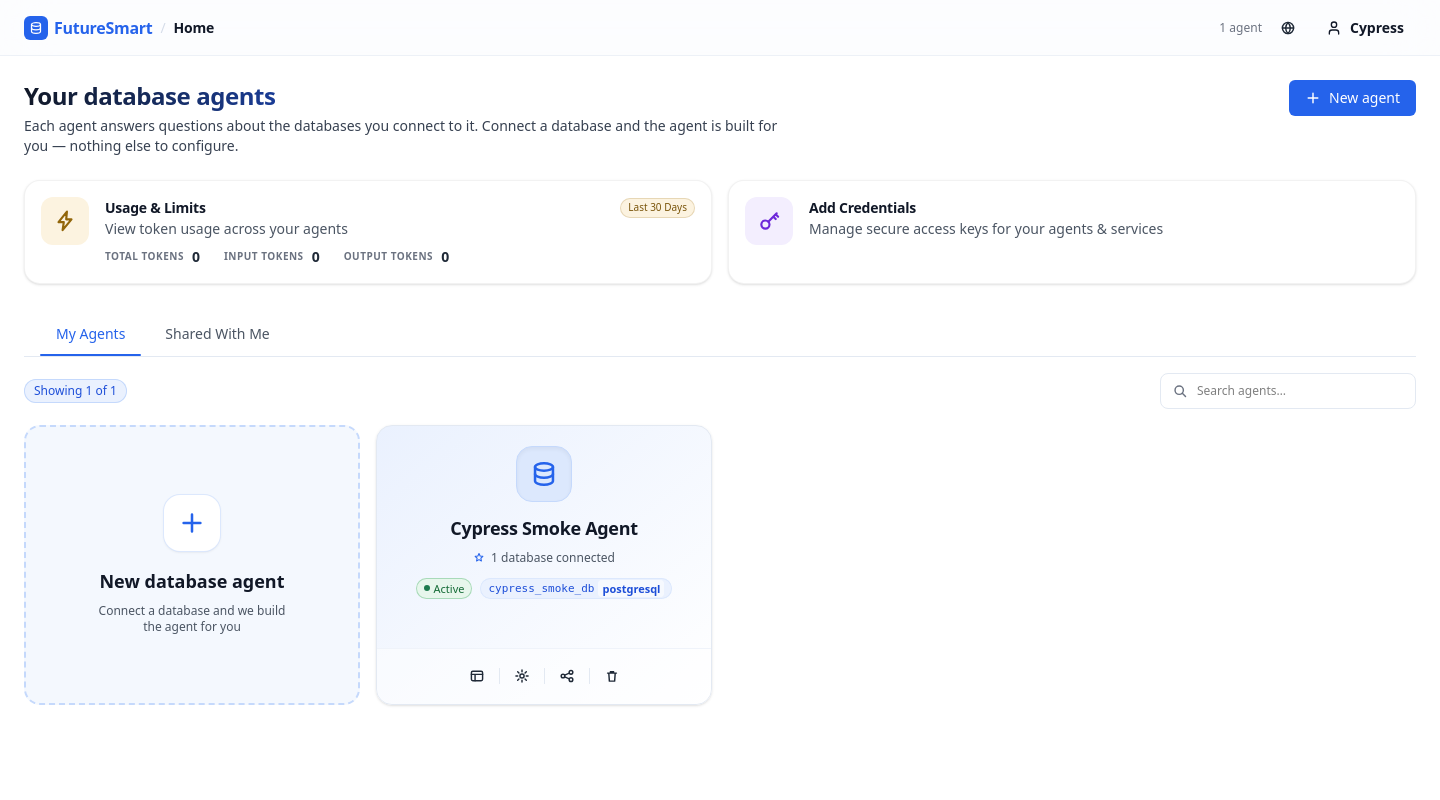
Test: Database Agent · app boots › opens the New agent wizard and walks its first step
Click the button "New agent" at (1353, 98), box [1289,80,1416,116]
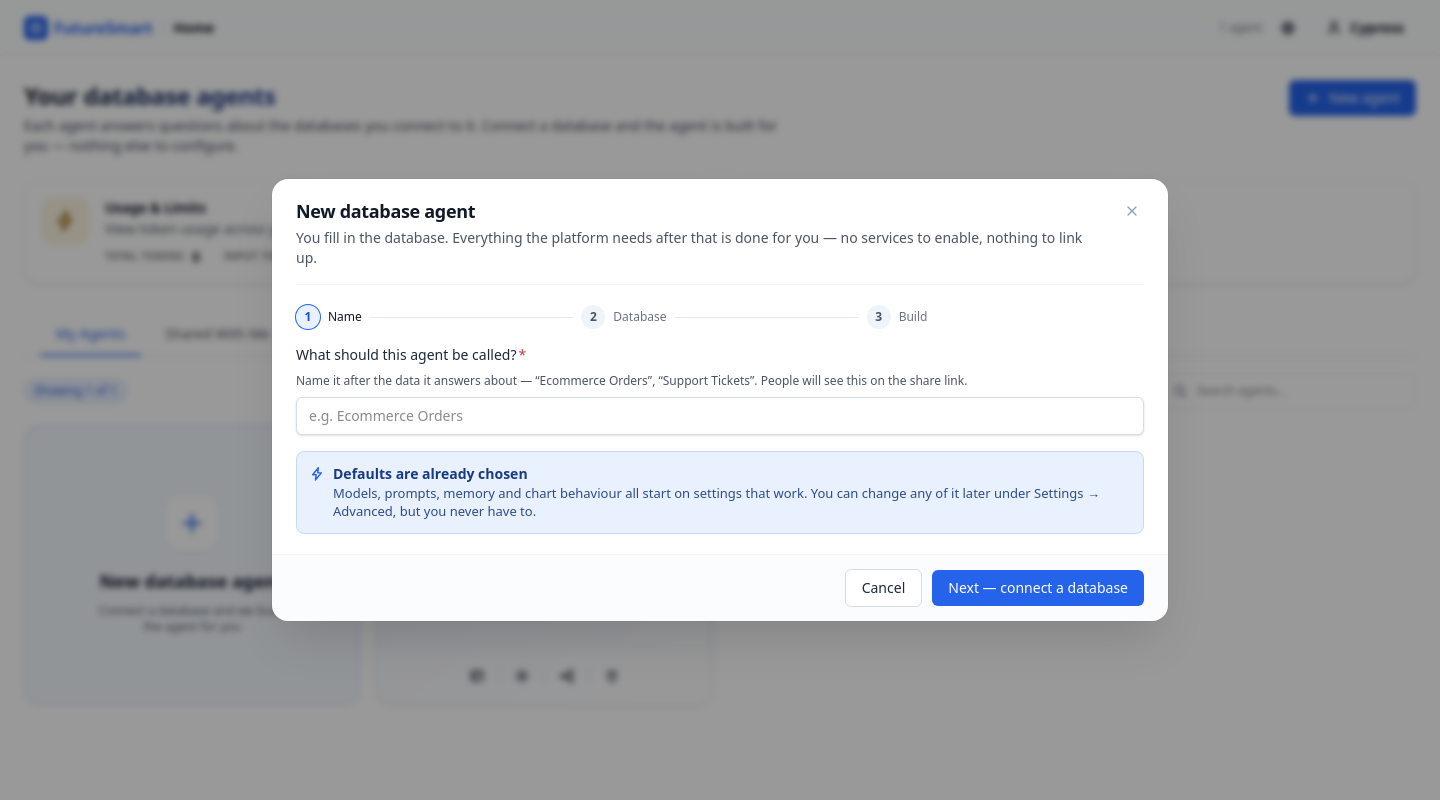
Now the heading "New database agent" is shown, box [296,199,475,223]
Type "Smoke agent" into the field with id "wzName" at (720, 416), box [296,397,1144,435]
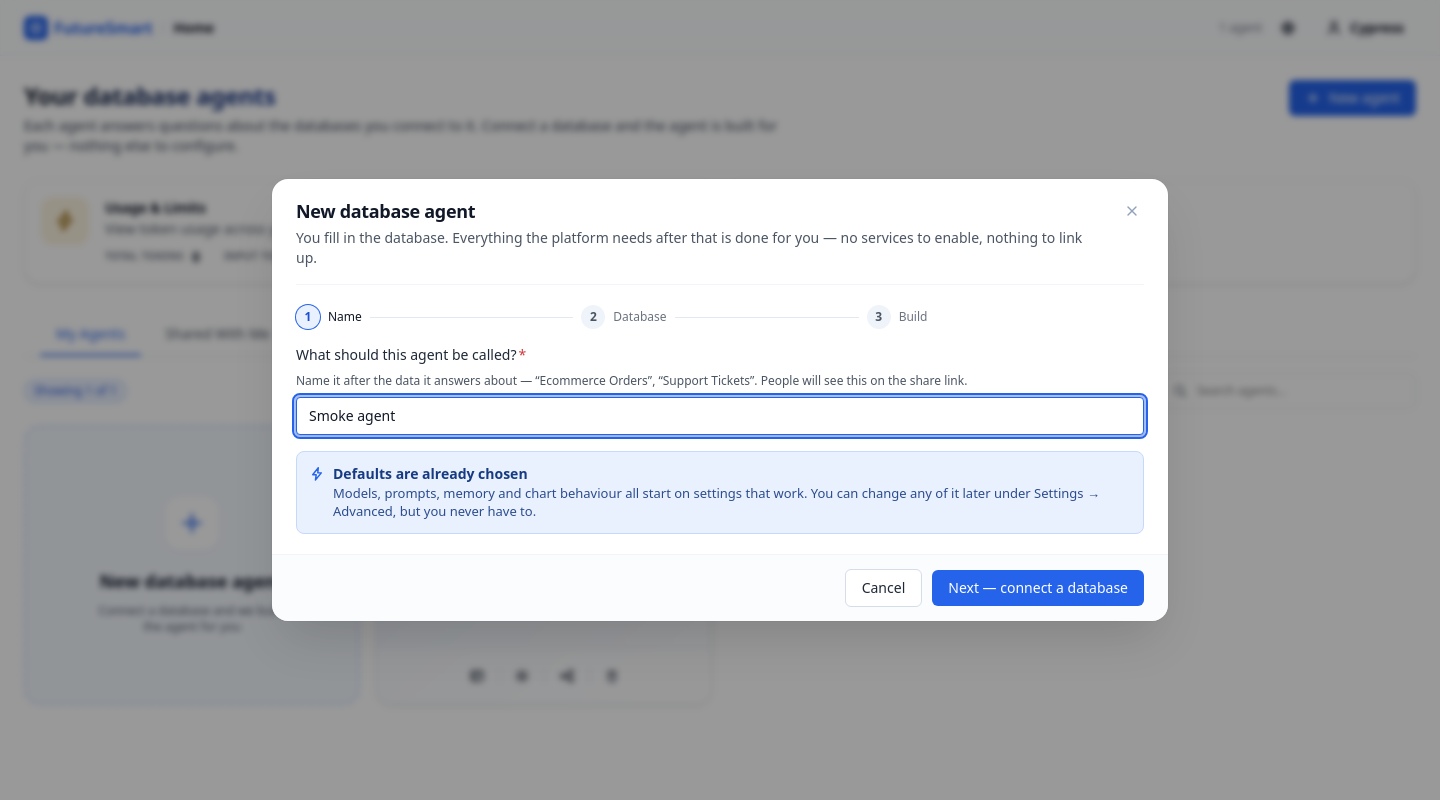
Click the button "Next — connect a database" at (1038, 588), box [932,570,1144,606]
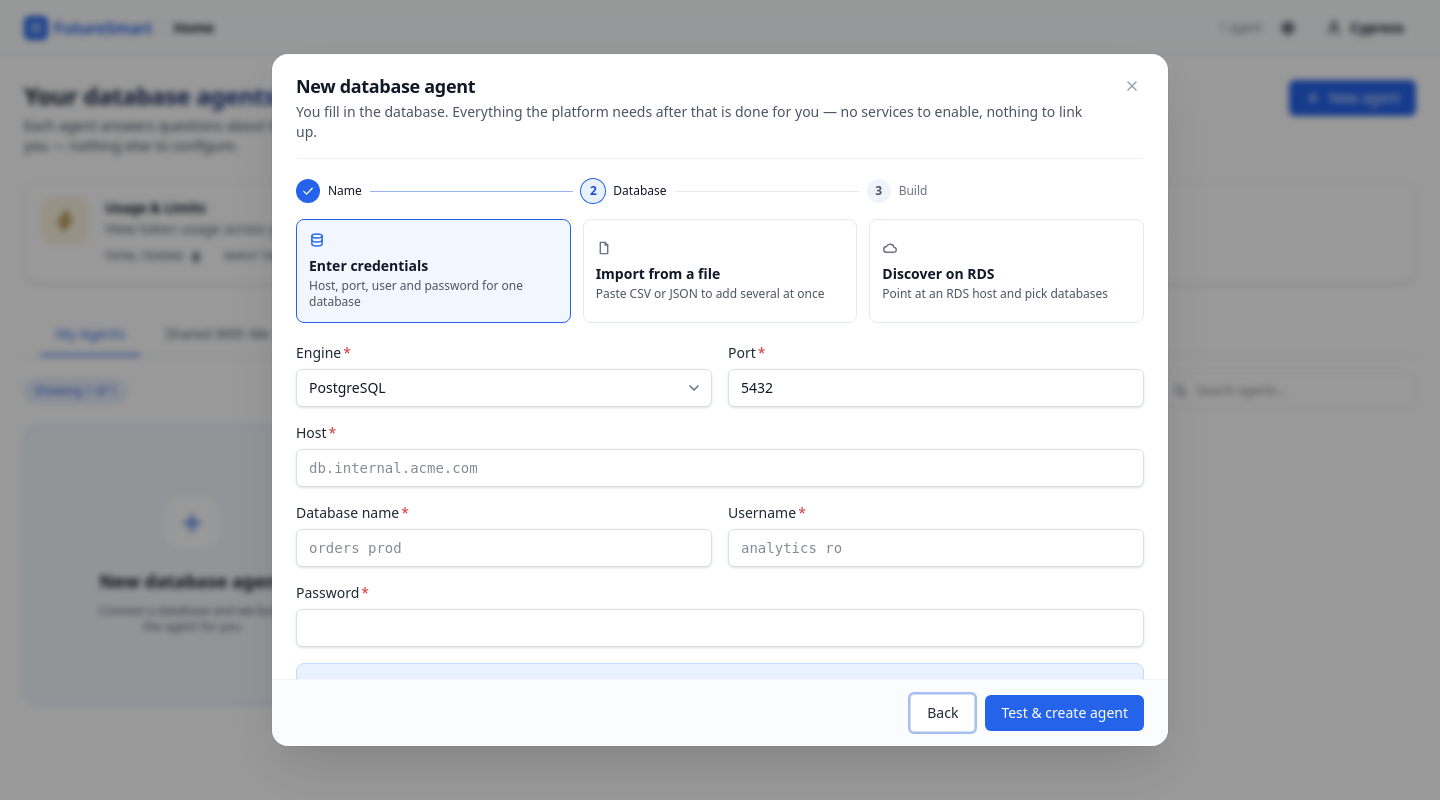
Now the dropdown with id "wzEngine" shows "PostgreSQL", box [296,369,712,407]
Now the number field with id "wzPort" holds "5432", box [728,369,1144,407]
Now the button "Cancel" is gone
Click the button "Back" at (943, 713), box [910,694,975,732]
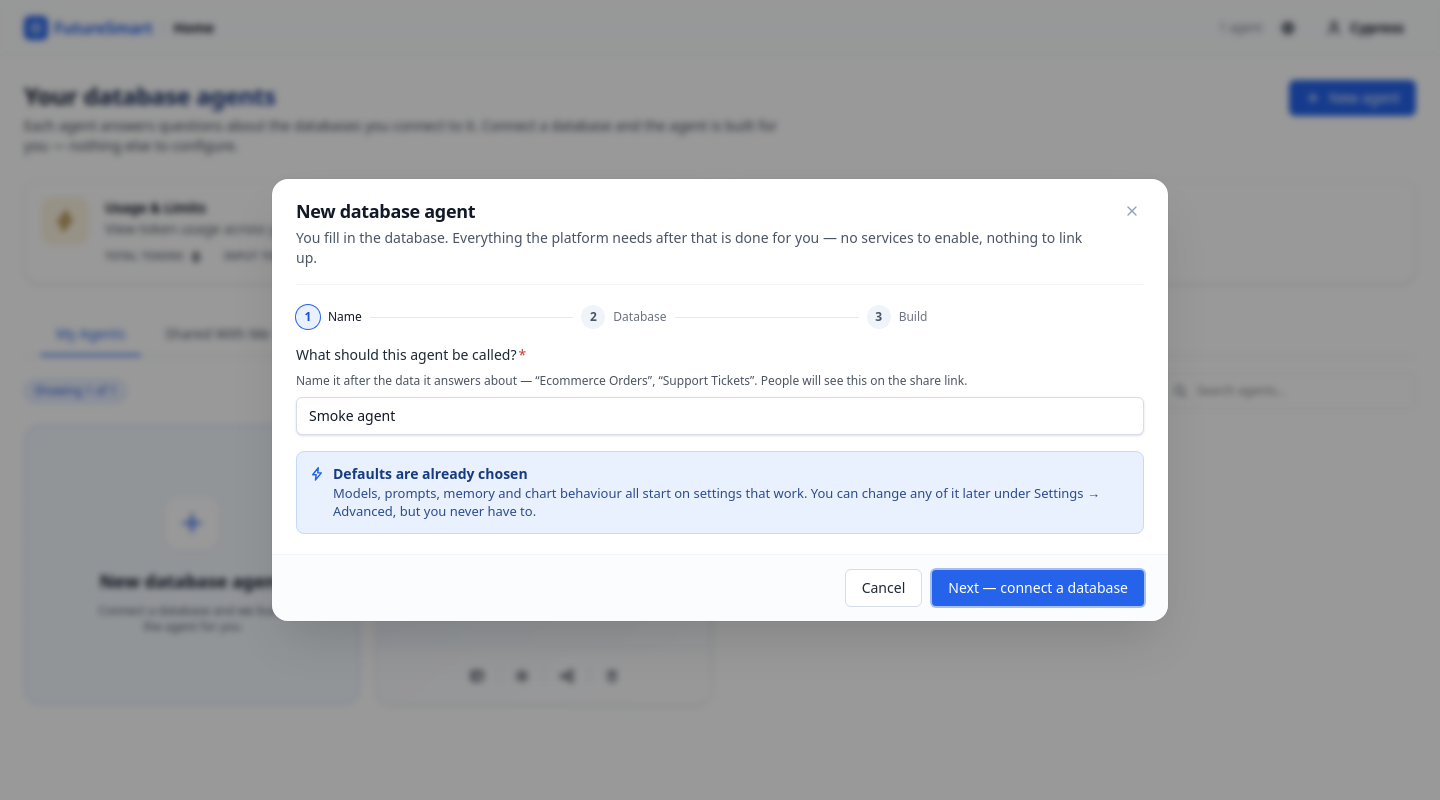
Now the field with id "wzName" holds "Smoke agent", box [296,397,1144,435]
